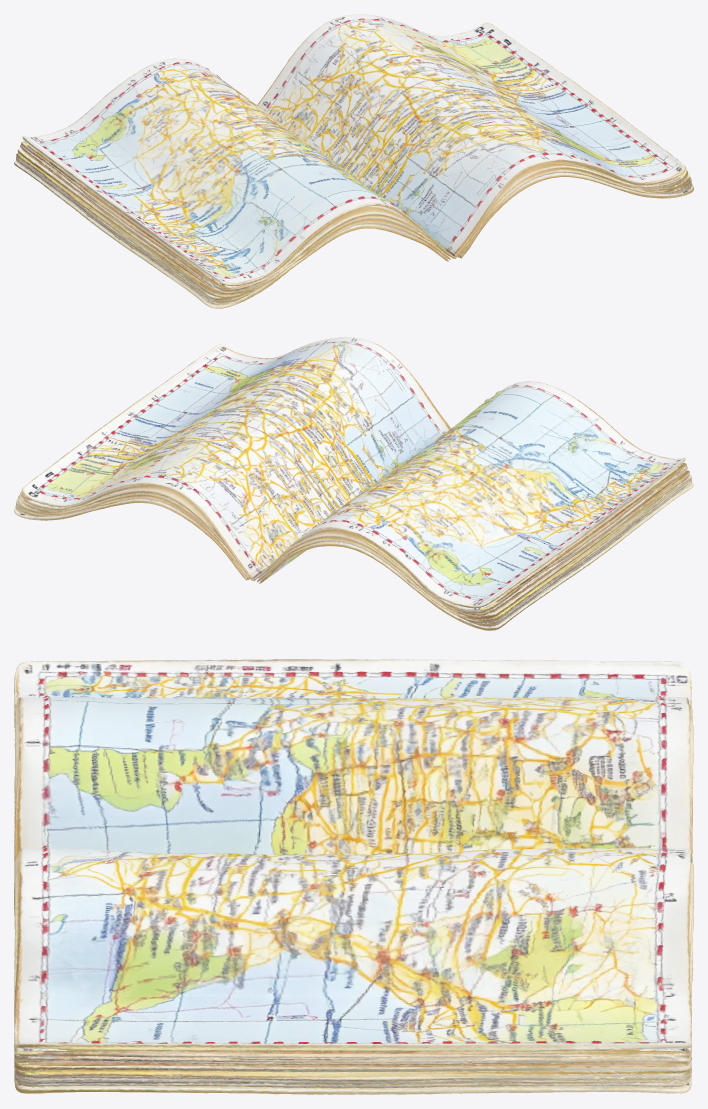
The model's file is map.glb.
3 views of the same model, one above another, from view 1: azimuth 30°, elevation 25°; view 2: azimuth 150°, elevation 25°; view 3: azimuth 270°, elevation 25° (orthographic). The views are drawn at different scales.
Size of the model in its own units: 1.9 by 0.2838 by 1.36.
Materials: 1 (1 with a texture image).
